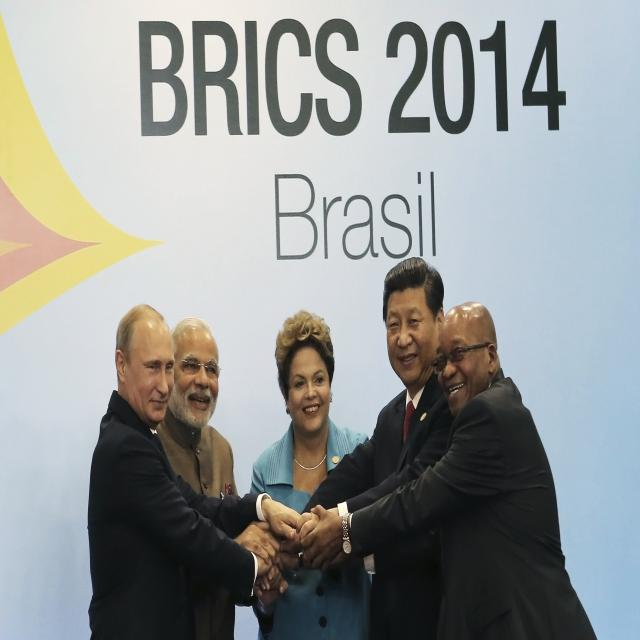body: (290, 296, 602, 640), (84, 302, 303, 640), (278, 255, 454, 640), (155, 315, 281, 640), (248, 306, 370, 640)
